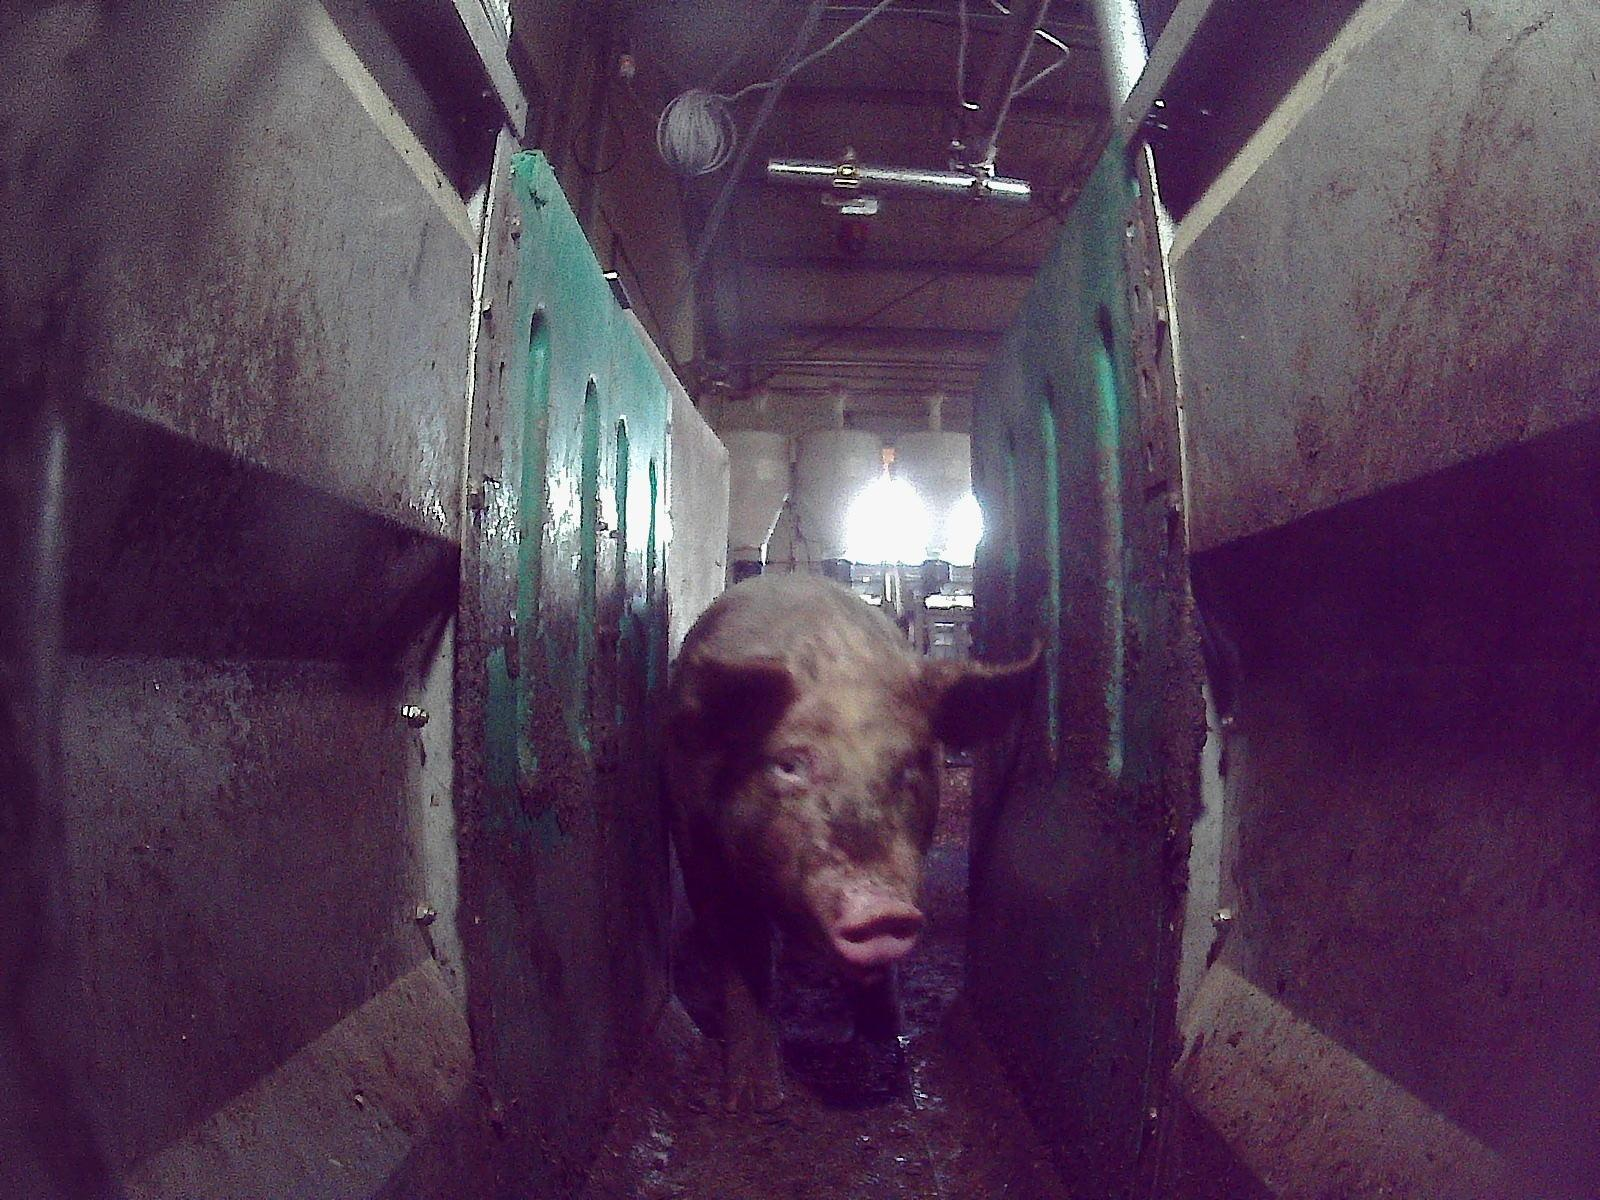Face: (717, 666, 937, 964)
